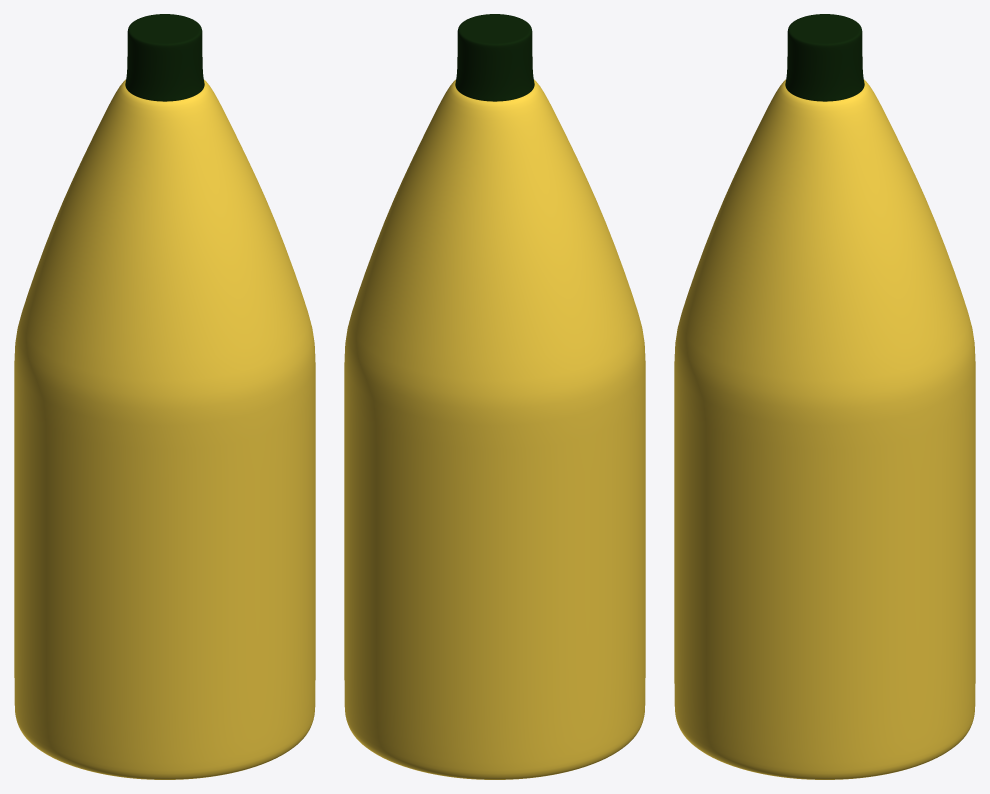
The model's file is uploads_files_3279091_Plastic_Bottle_2.fbx.
3 renders of one model, left to right at view 1: azimuth 30°, elevation 25°; view 2: azimuth 150°, elevation 25°; view 3: azimuth 270°, elevation 25°, orthographic.
Visible parts, largest first — view 1: Bottle_2; view 2: Bottle_2; view 3: Bottle_2.
Boxes of the visible parts, box(x1,y1,x2,y2) form: Bottle_2: box(14, 14, 315, 779); Bottle_2: box(344, 14, 645, 779); Bottle_2: box(674, 14, 975, 779).
Bounding box in the file's own units: 194 × 492 × 194.
2 materials, 2 textured.
